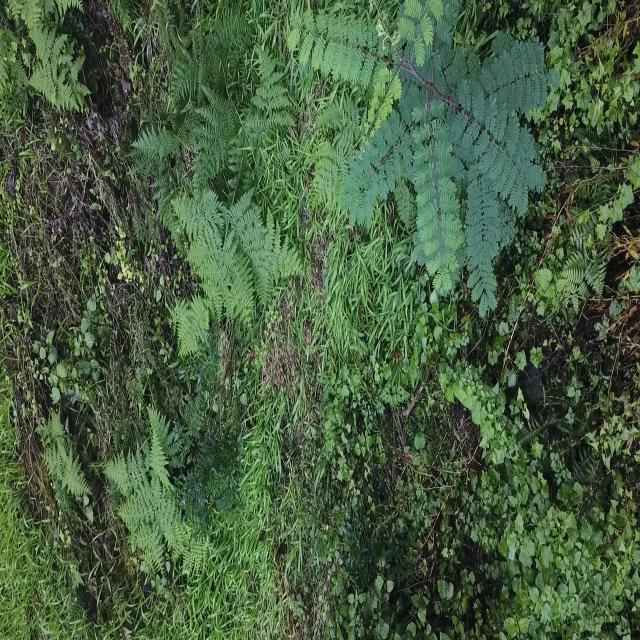Mysore-Thorn-Weed: (284, 0, 563, 323)
